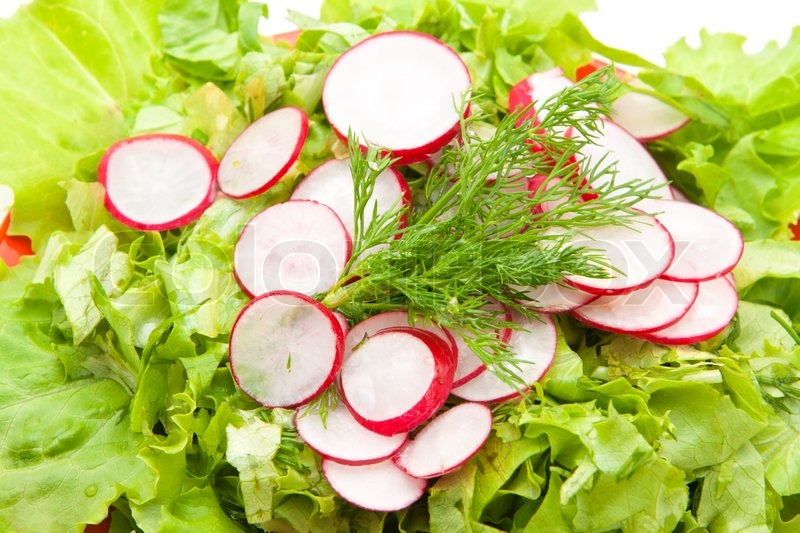chopped lettuce: (5, 2, 796, 533)
